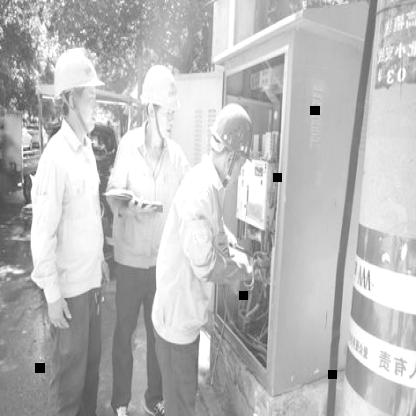helmet: (209, 96, 261, 158), (53, 41, 105, 102), (134, 58, 186, 119)
